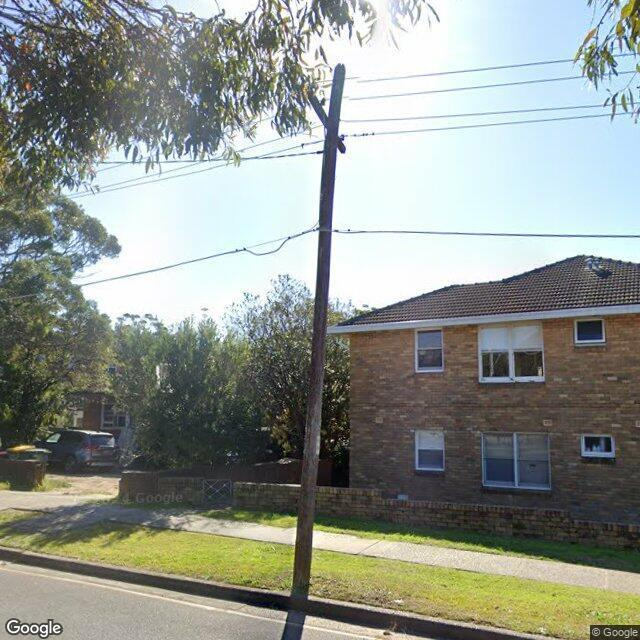crossarm: (307, 93, 346, 155)
timber-pole: (293, 63, 345, 588)
